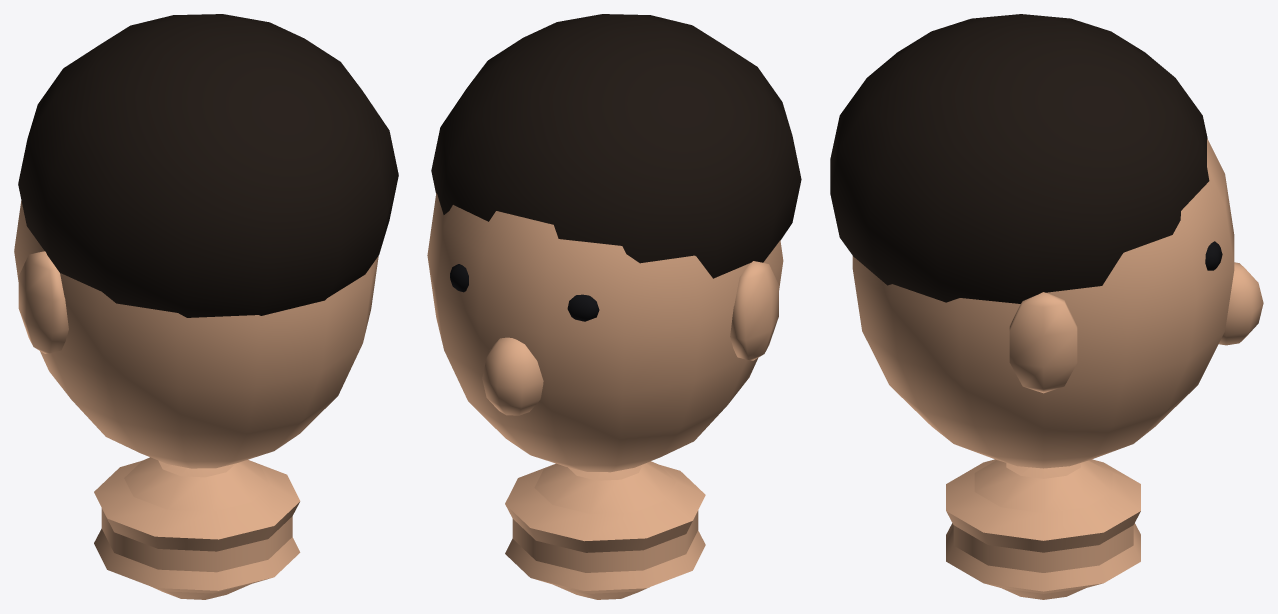
Rendered from char_thief_head.obj.
3 renders of one model, left to right at view 1: azimuth 30°, elevation 25°; view 2: azimuth 150°, elevation 25°; view 3: azimuth 270°, elevation 25°, orthographic. The views are drawn at different scales.
Visible parts, largest first — view 1: char_thief_head; view 2: char_thief_head; view 3: char_thief_head.
Boxes of the visible parts, box(x1,y1,x2,y2) form: char_thief_head: box(14, 14, 398, 599); char_thief_head: box(427, 14, 801, 599); char_thief_head: box(830, 14, 1263, 599).
Size of the model in its own units: 0.2088 by 0.33 by 0.2324.
